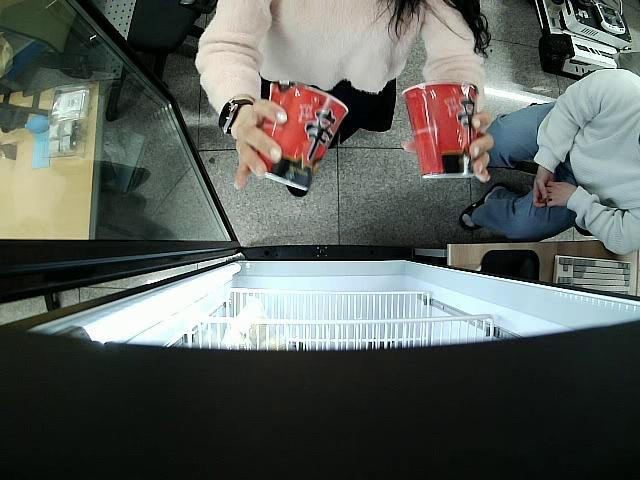00_hand: (401, 111, 493, 185), (227, 99, 288, 189)
02_shinRamen_S: (260, 79, 349, 193), (400, 77, 478, 181)
